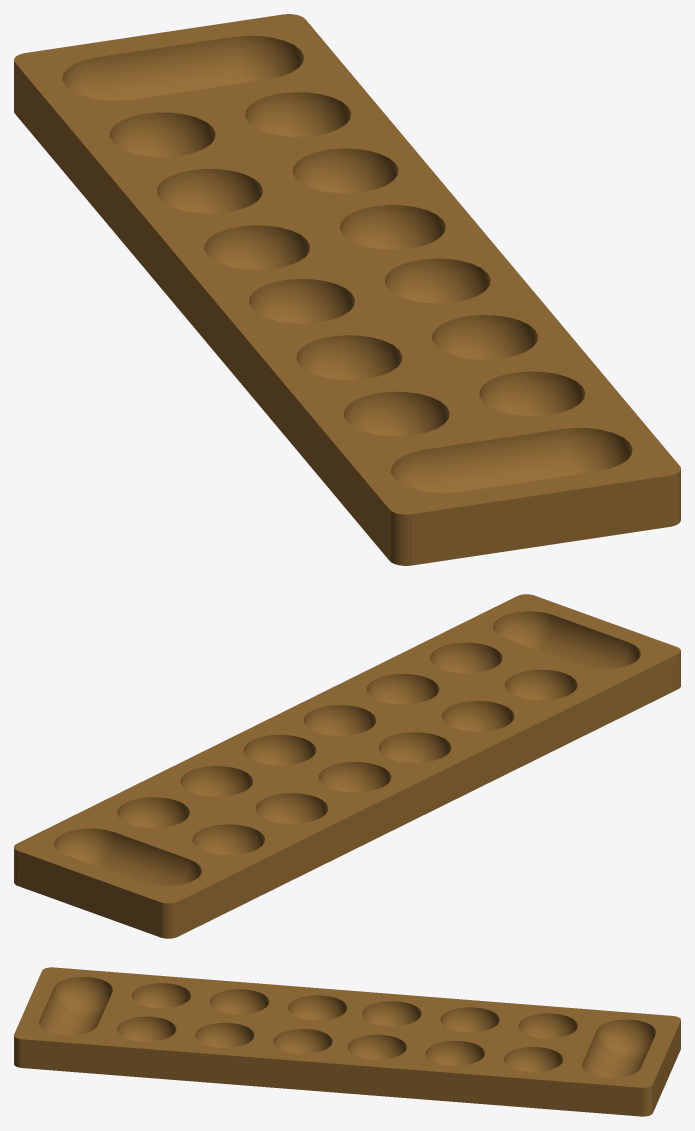
The model's file is mancala.obj.
3 renders of one model, top to bottom at view 1: azimuth 30°, elevation 25°; view 2: azimuth 150°, elevation 25°; view 3: azimuth 270°, elevation 25°, orthographic. The views are drawn at different scales.
Parts seen in each view (by area): view 1: Mancalaboard1; view 2: Mancalaboard1; view 3: Mancalaboard1.
Part boxes in pixels (box(x1,y1,x2,y2)): Mancalaboard1: box(14, 14, 680, 565); Mancalaboard1: box(14, 594, 680, 938); Mancalaboard1: box(14, 967, 680, 1116).
Bounding box in the file's own units: 14.34 × 1.6 × 33.57.
